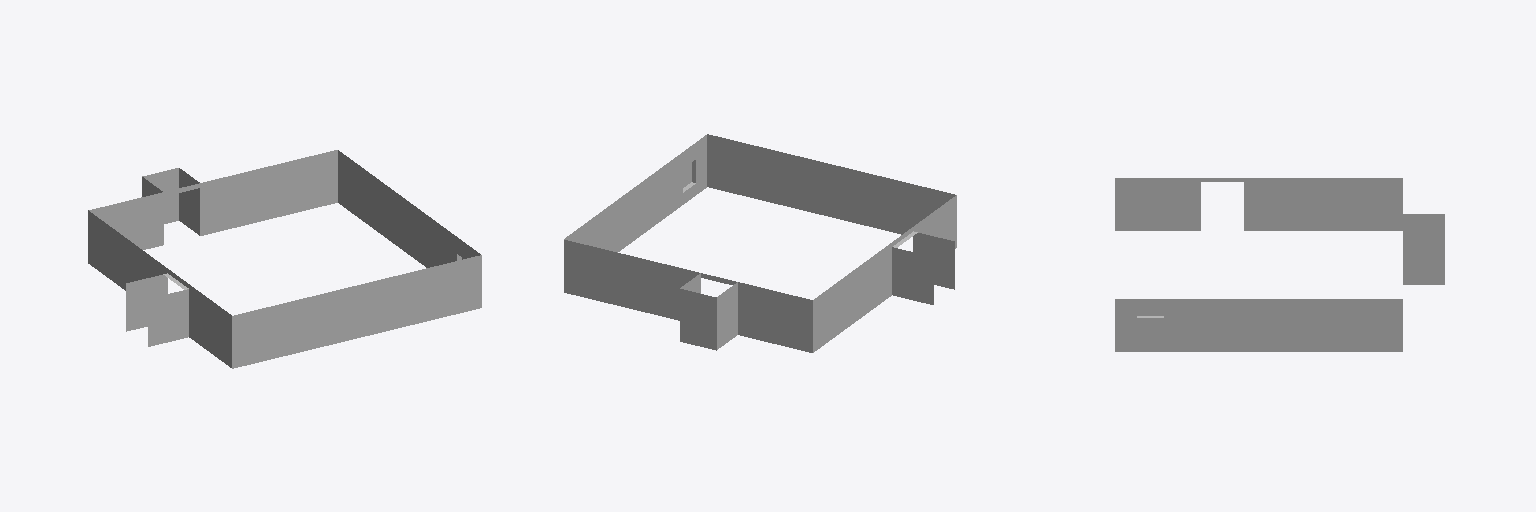
File: LVL3-Walls2.obj
3 views of the same model, side by side, from view 1: azimuth 30°, elevation 25°; view 2: azimuth 150°, elevation 25°; view 3: azimuth 270°, elevation 25° (orthographic).
Visible parts, largest first — view 1: Plane.008; view 2: Plane.008; view 3: Plane.008.
Boxes of the visible parts, box(x1,y1,x2,y2) form: Plane.008: box(88, 150, 481, 368); Plane.008: box(564, 134, 956, 352); Plane.008: box(1115, 178, 1444, 351).
Size of the model in its own units: 19.2 by 3.3 by 18.59.